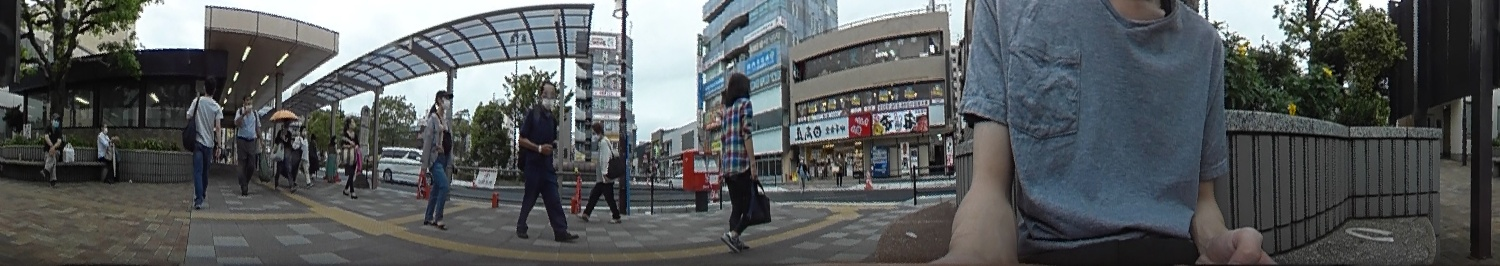difficult_person: (294, 126, 310, 185), (325, 132, 340, 182), (308, 133, 320, 177), (831, 152, 846, 185), (794, 156, 808, 186)
person: (520, 78, 582, 240), (710, 66, 762, 247), (180, 77, 224, 206), (419, 86, 459, 226), (580, 121, 625, 219), (233, 95, 260, 191), (270, 115, 299, 191), (40, 111, 66, 185), (340, 115, 363, 195), (94, 120, 121, 181)
